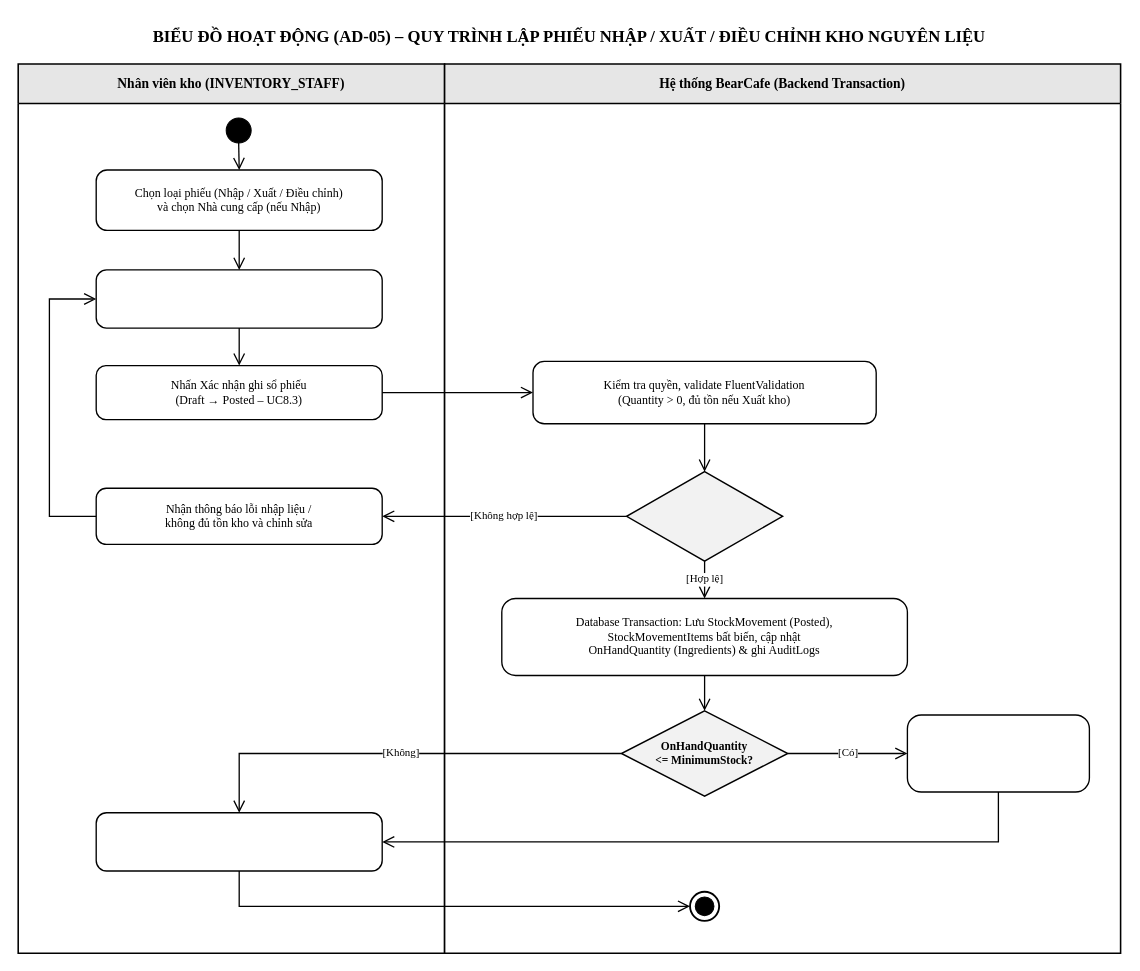
Some shapes in this 1140 by 971 pixel diagram are drawn without their labels. Here are the shapes that lost their labels. From the top down, the centre of each, then its label:
the point at 238,298: Thêm nguyên liệu, số lượng DECIMAL(18,3), đơn vị tính & đơn giá nhập
the point at 704,515: Dữ liệu & RowVersion hợp lệ?
the point at 998,753: Bật cờ cảnh báo dưới mức tồn tối thiểu lên Kho & Báo cáo
the point at 238,841: Xem phiếu đã ghi sổ & danh sách cảnh báo tồn tối thiểu (UC8.4)
